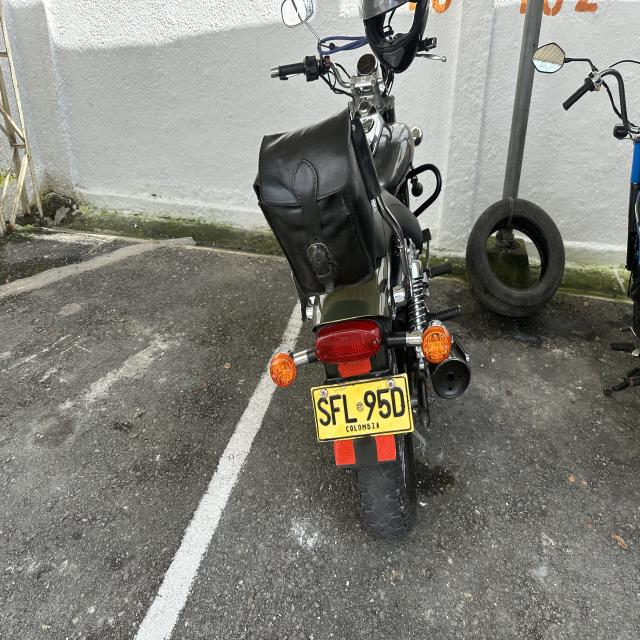number plate: (311, 373, 413, 441)
